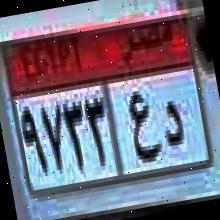3: (82, 94, 116, 174), (60, 94, 94, 174)
7: (38, 99, 72, 178)
9: (15, 102, 50, 180)
ain: (121, 85, 165, 170)
daal: (157, 92, 189, 156)
